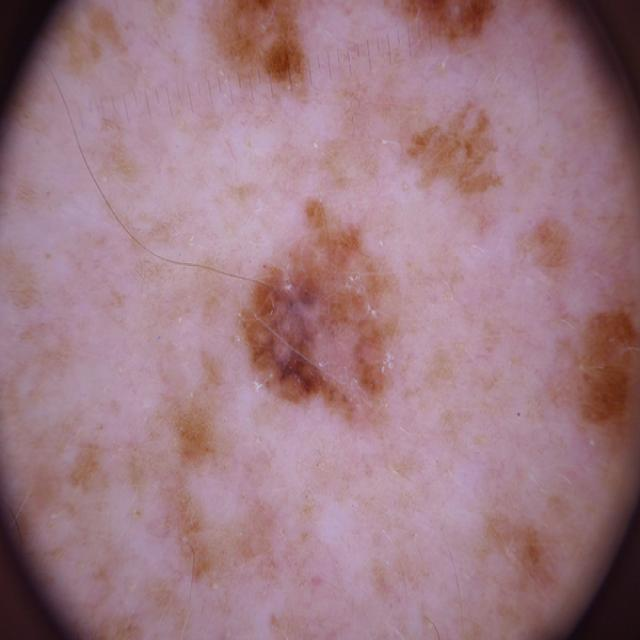MEL: (235, 201, 404, 432)
